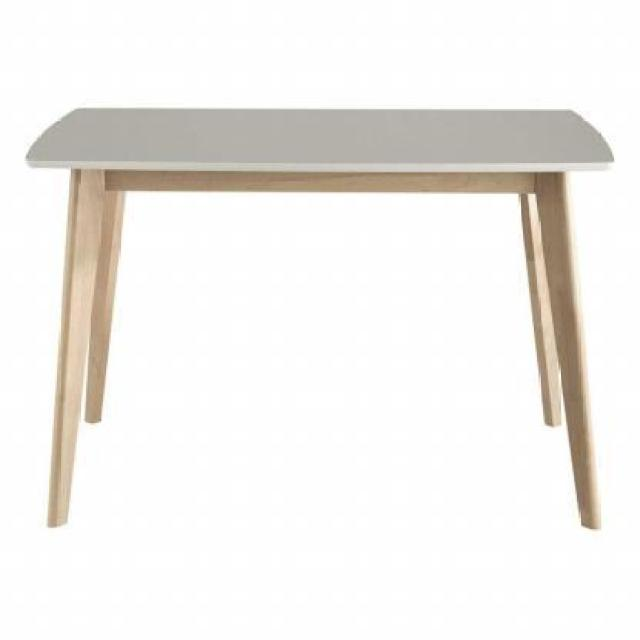tables: (24, 104, 616, 530)
